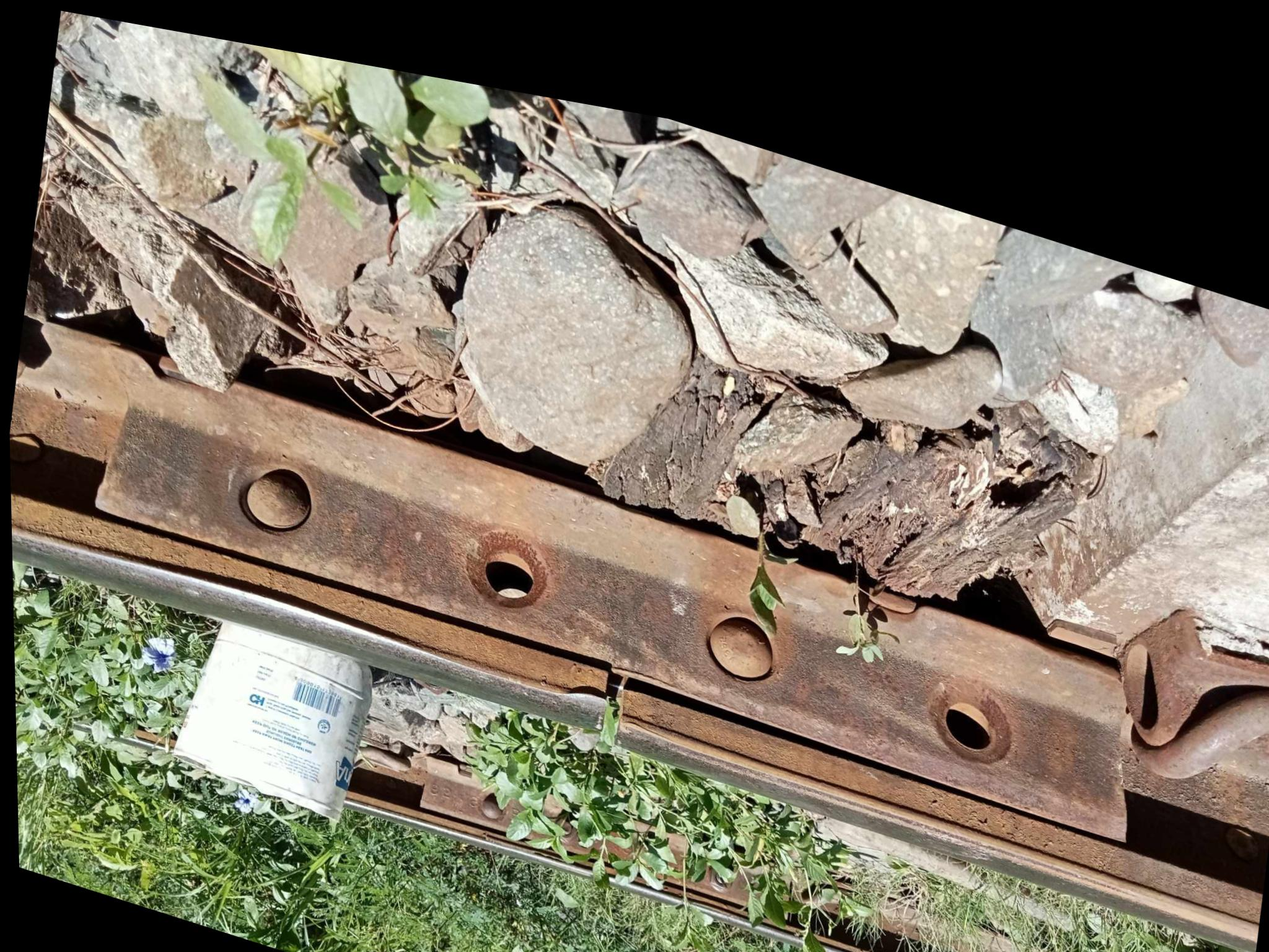person: (529, 594, 682, 768)
